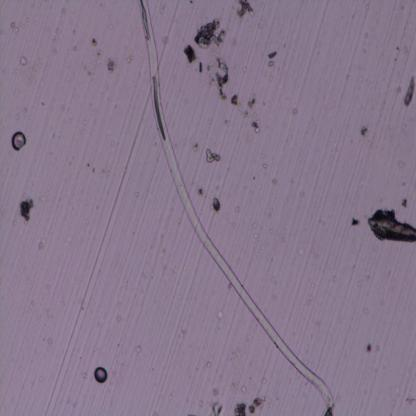Air bubble: (90, 364, 112, 386)
Background material: (186, 18, 230, 103), (366, 206, 416, 246), (230, 90, 259, 118), (233, 394, 263, 416), (200, 142, 221, 168), (17, 196, 34, 227), (402, 76, 416, 105), (208, 400, 226, 416), (236, 3, 254, 19), (348, 213, 362, 229), (266, 51, 278, 69), (106, 55, 116, 75), (251, 117, 262, 135), (359, 126, 374, 137), (212, 195, 220, 213), (18, 56, 29, 68), (195, 188, 207, 198), (364, 341, 373, 354), (91, 36, 100, 48), (402, 197, 408, 208)
Diatom: (10, 129, 26, 152)
Microfibre: (137, 0, 335, 416)
